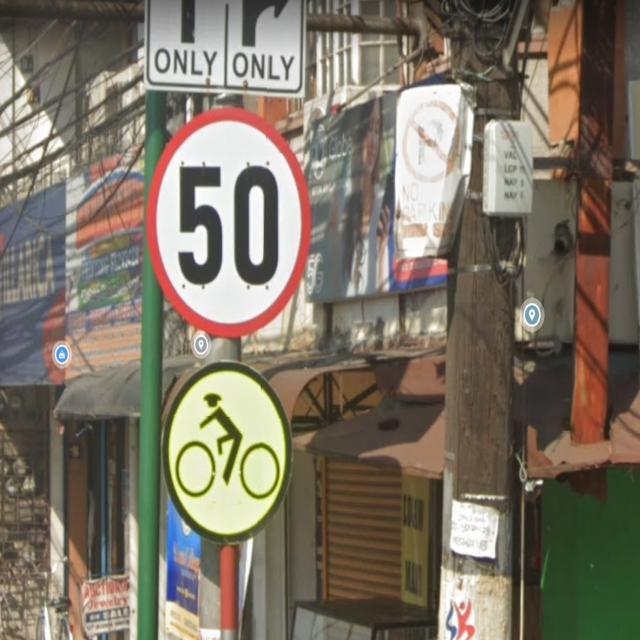50 kph: (147, 109, 312, 337)
bike lane: (161, 359, 292, 544)
